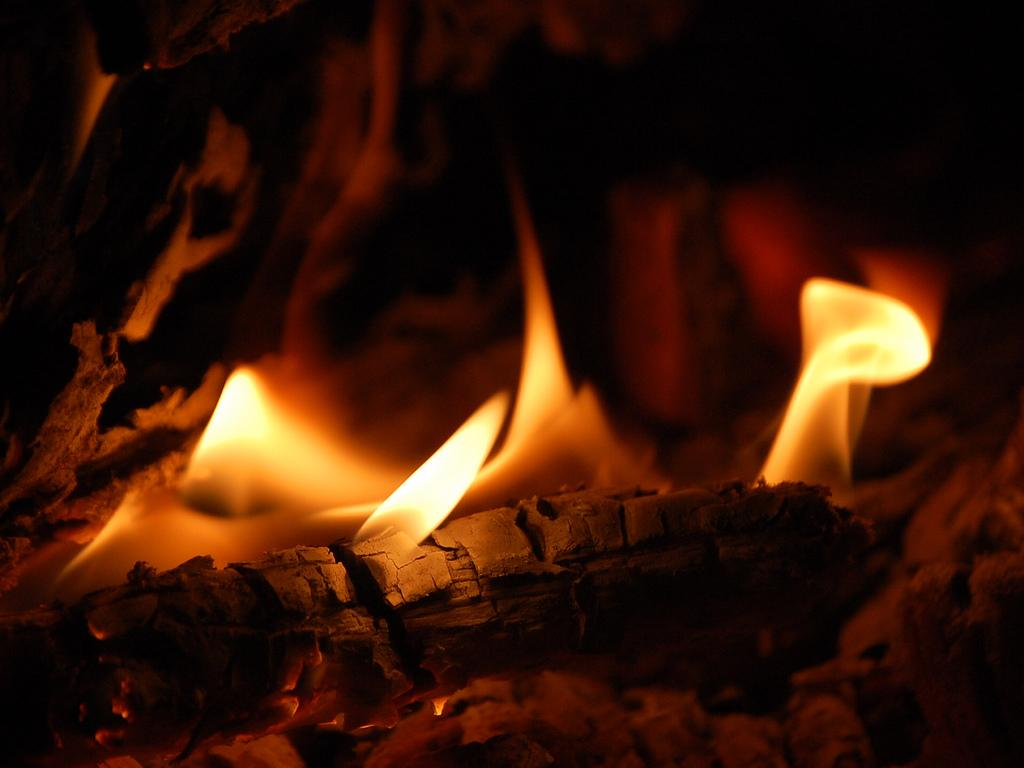fire: (206, 388, 410, 536), (800, 282, 936, 388), (486, 382, 608, 470)
